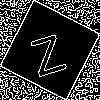Z: (25, 25, 68, 77)
